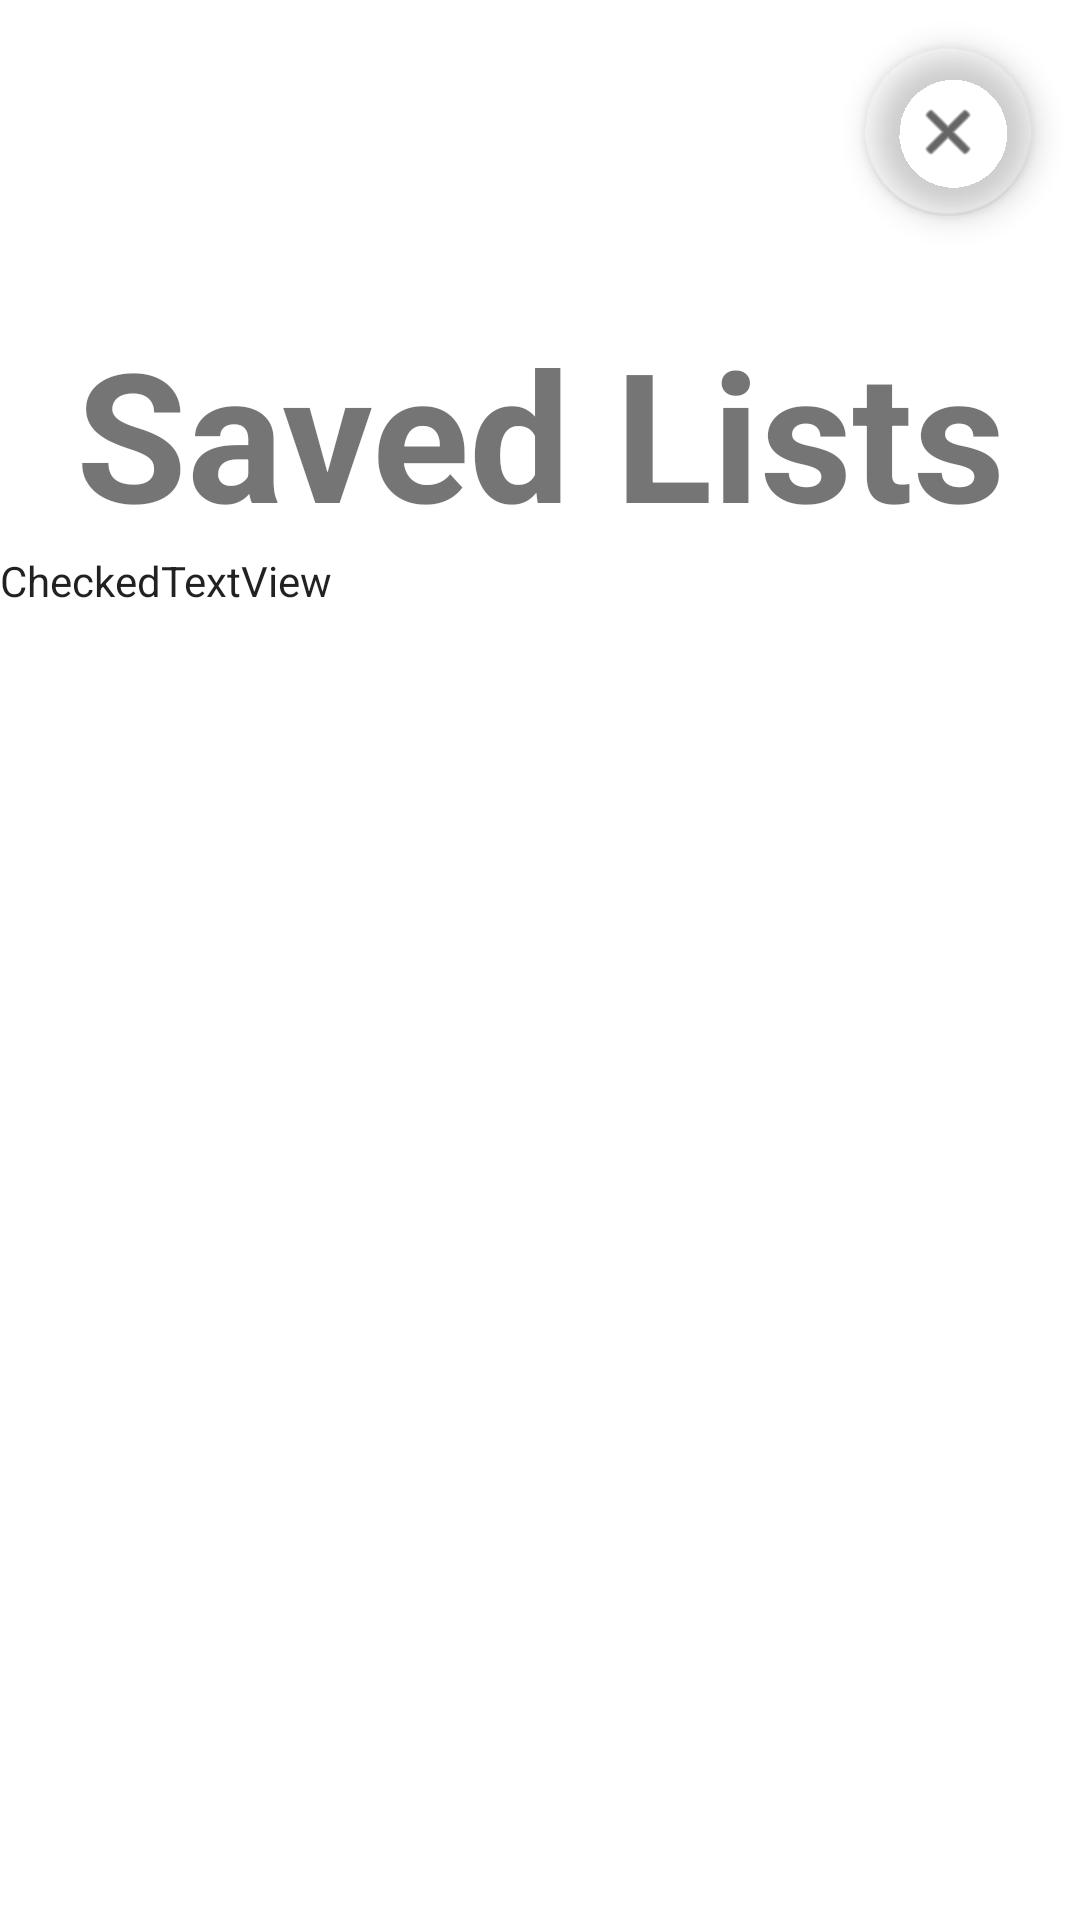

Point at icon controls on the screen. Image size 1080x1920, points as (x=x, y=y).
close clear cancel: (x=949, y=136)
